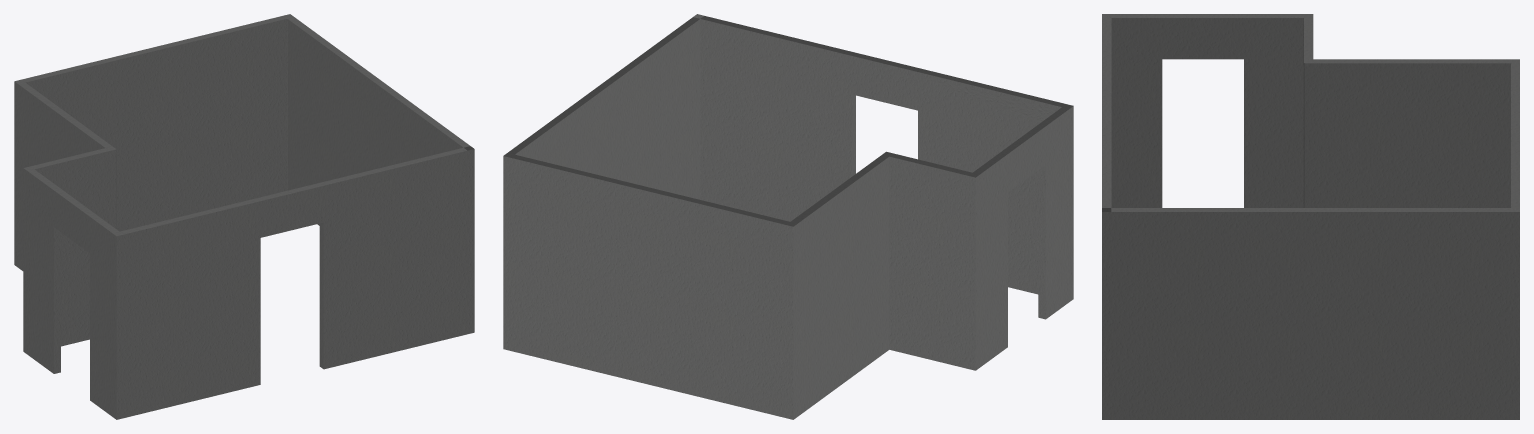
Rendered from StandardWallSize_402d1ed3.obj.
3 views of the same model, side by side, from view 1: azimuth 30°, elevation 25°; view 2: azimuth 150°, elevation 25°; view 3: azimuth 270°, elevation 25° (orthographic). The views are drawn at different scales.
Visible parts, largest first — view 1: StandardWallSize_402d1ed3; view 2: StandardWallSize_402d1ed3; view 3: StandardWallSize_402d1ed3.
Part boxes in pixels (x1,y1,x2,y2): StandardWallSize_402d1ed3: (14,14,474,419); StandardWallSize_402d1ed3: (503,14,1073,419); StandardWallSize_402d1ed3: (1102,14,1519,419).
Bounding box in the file's own units: 5.1 × 2.5 × 4.55.
